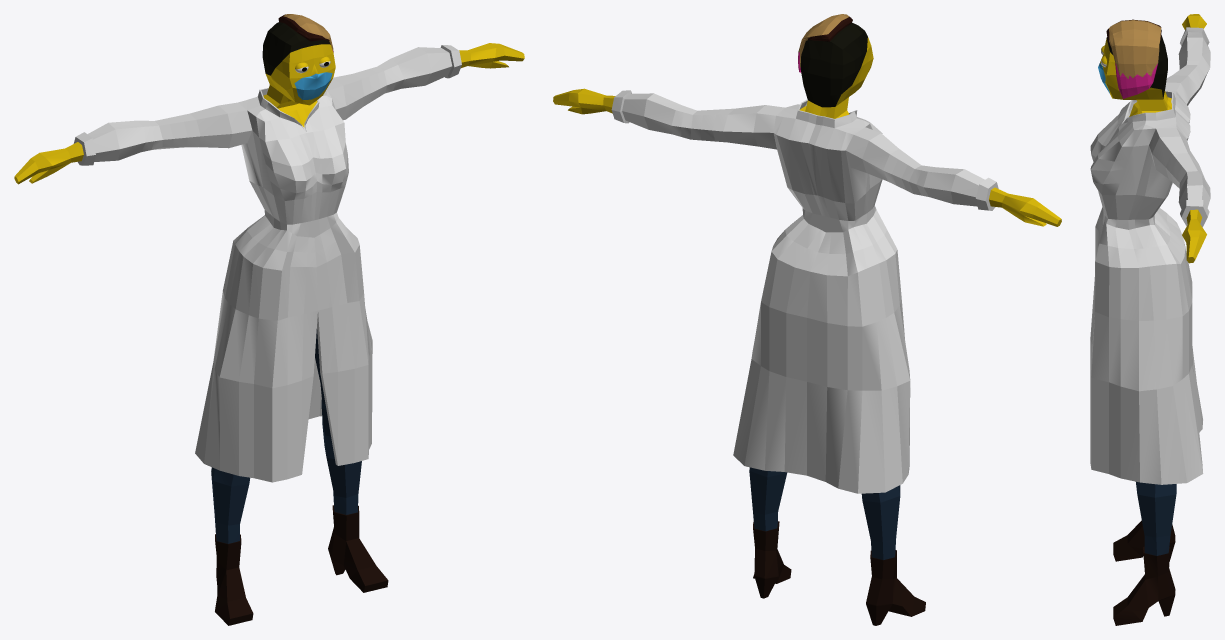
Rendered from Mask.fbx.
3 views of the same model, side by side, from view 1: azimuth 30°, elevation 25°; view 2: azimuth 150°, elevation 25°; view 3: azimuth 270°, elevation 25° (orthographic). The views are drawn at different scales.
Visible parts, largest first — view 1: Pharma Girl; view 2: Pharma Girl; view 3: Pharma Girl.
Part boxes in pixels (x1,y1,x2,y2): Pharma Girl: (14,14,524,625); Pharma Girl: (553,14,1061,625); Pharma Girl: (1090,14,1210,625).
Size of the model in its own units: 1.51 by 0.3178 by 1.65.
